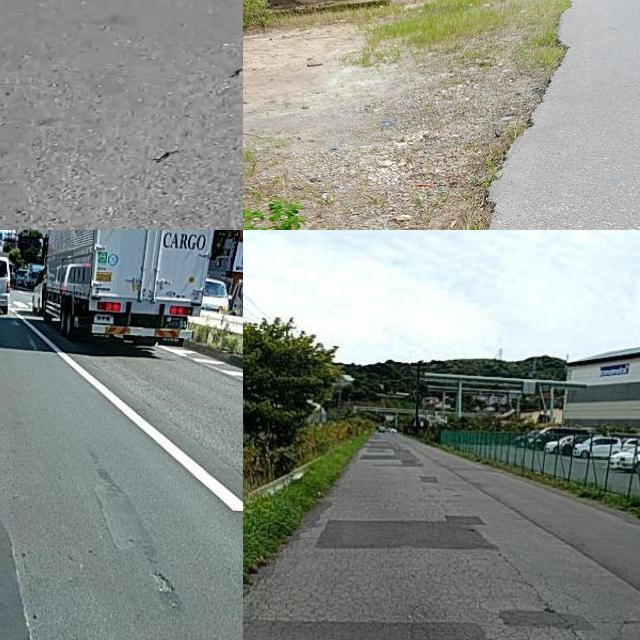Pinggir: (443, 0, 615, 230)
Sambungan: (315, 515, 495, 552)
